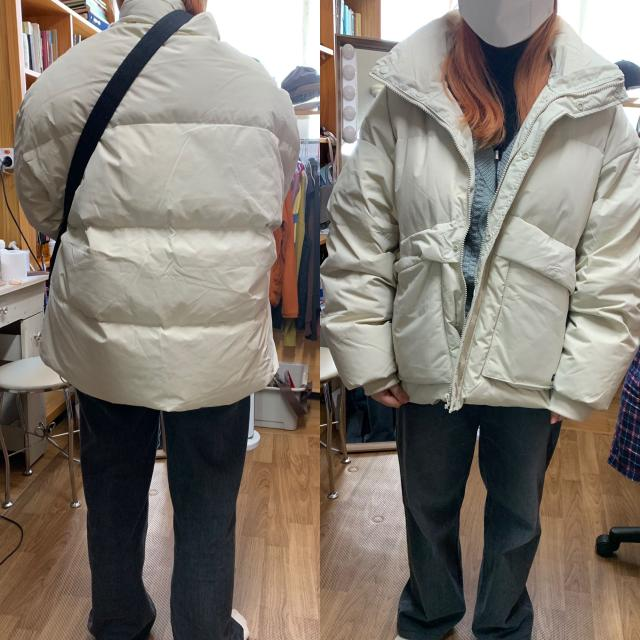denimpants: (67, 386, 248, 640), (396, 394, 561, 640)
padding: (320, 7, 640, 425), (14, 0, 301, 411)
